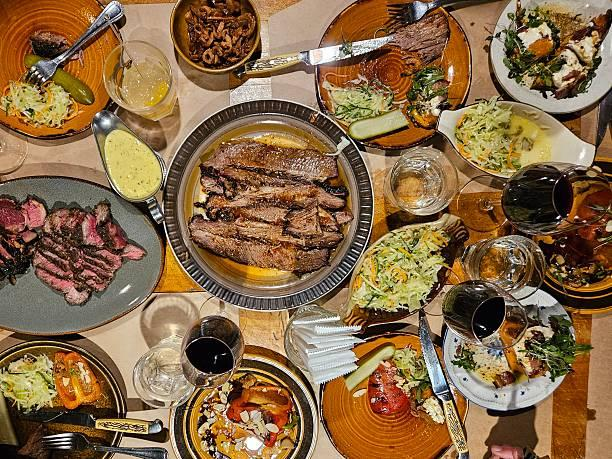Braised Crucian Carp: (163, 99, 364, 304), (0, 174, 162, 334), (314, 0, 468, 151), (317, 332, 464, 457), (0, 0, 122, 138), (441, 288, 574, 410), (170, 351, 315, 458), (0, 339, 129, 455), (487, 0, 611, 115), (169, 0, 260, 75)
